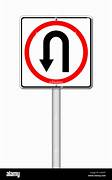back: (24, 19, 88, 85)
